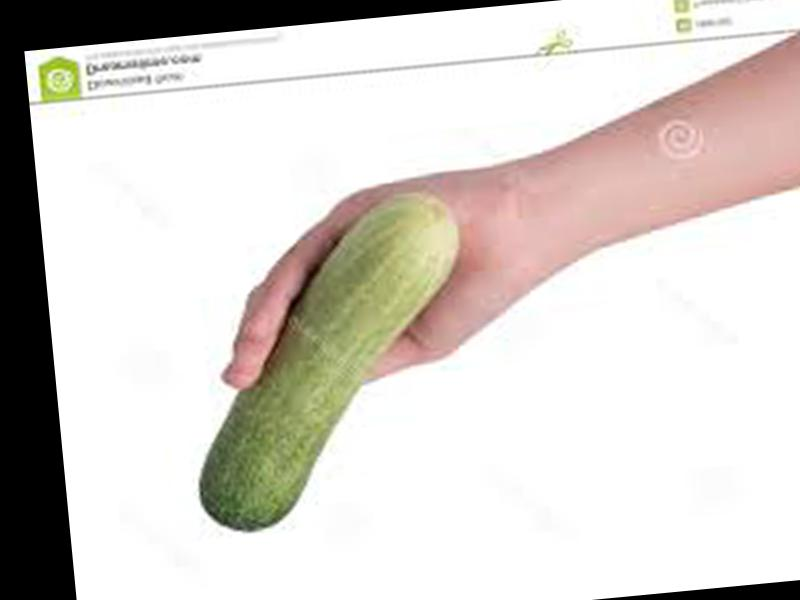Cucumber: (177, 191, 484, 533)
